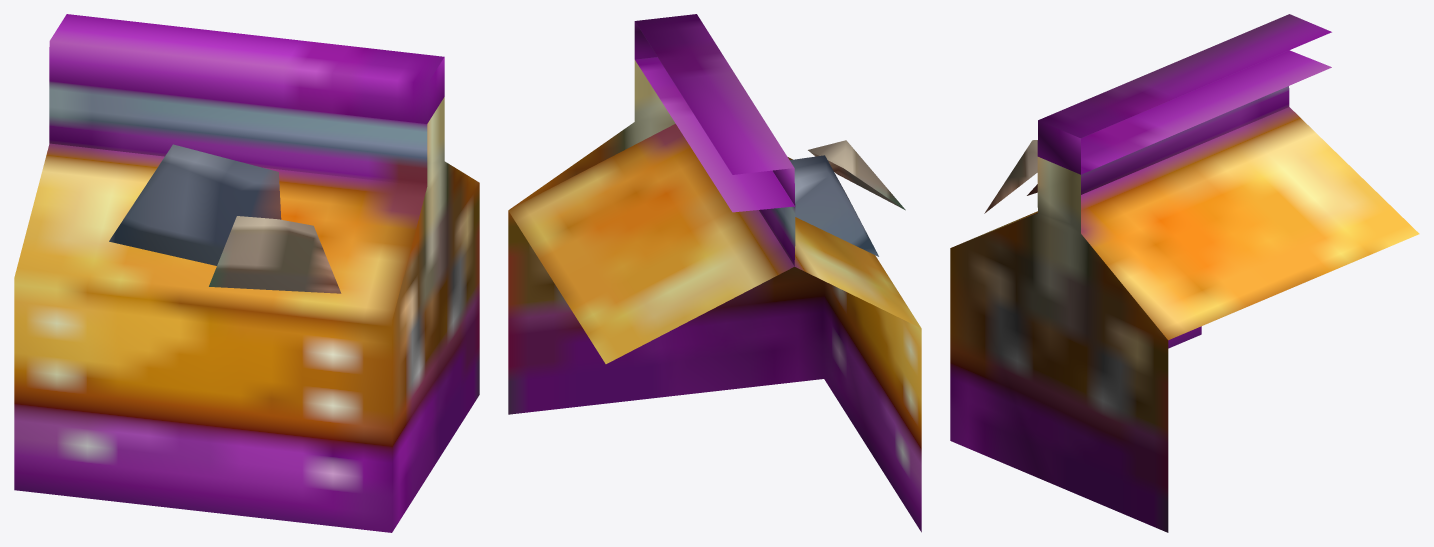
The model's file is fg_G_toolbox_D_out.dae.
3 views of the same model, side by side, from view 1: azimuth 30°, elevation 25°; view 2: azimuth 150°, elevation 25°; view 3: azimuth 270°, elevation 25° (orthographic). The views are drawn at different scales.
Visible parts, largest first — view 1: fg_G_toolbox_D_out; view 2: fg_G_toolbox_D_out; view 3: fg_G_toolbox_D_out.
Part boxes in pixels (x1,y1,x2,y2): fg_G_toolbox_D_out: (14,14,479,532); fg_G_toolbox_D_out: (508,14,921,532); fg_G_toolbox_D_out: (950,14,1419,532).
Bounding box in the file's own units: 19.8 × 16.64 × 19.8.
1 material, 1 textured.
